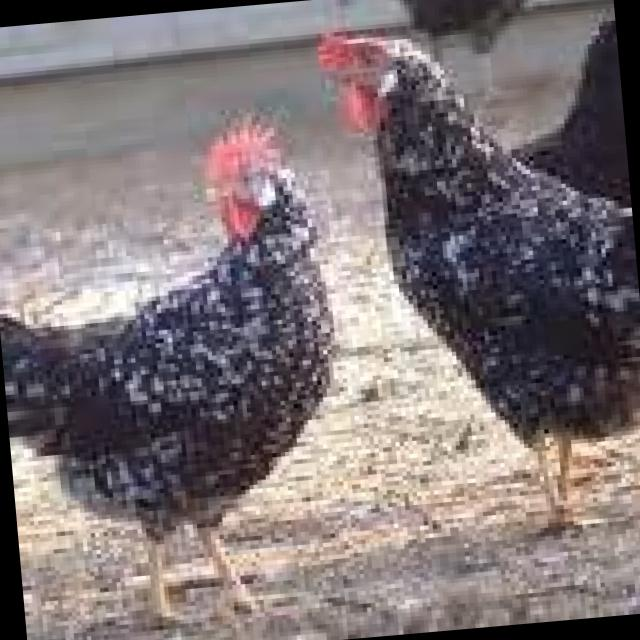animal: (0, 108, 361, 634), (310, 0, 640, 558)
